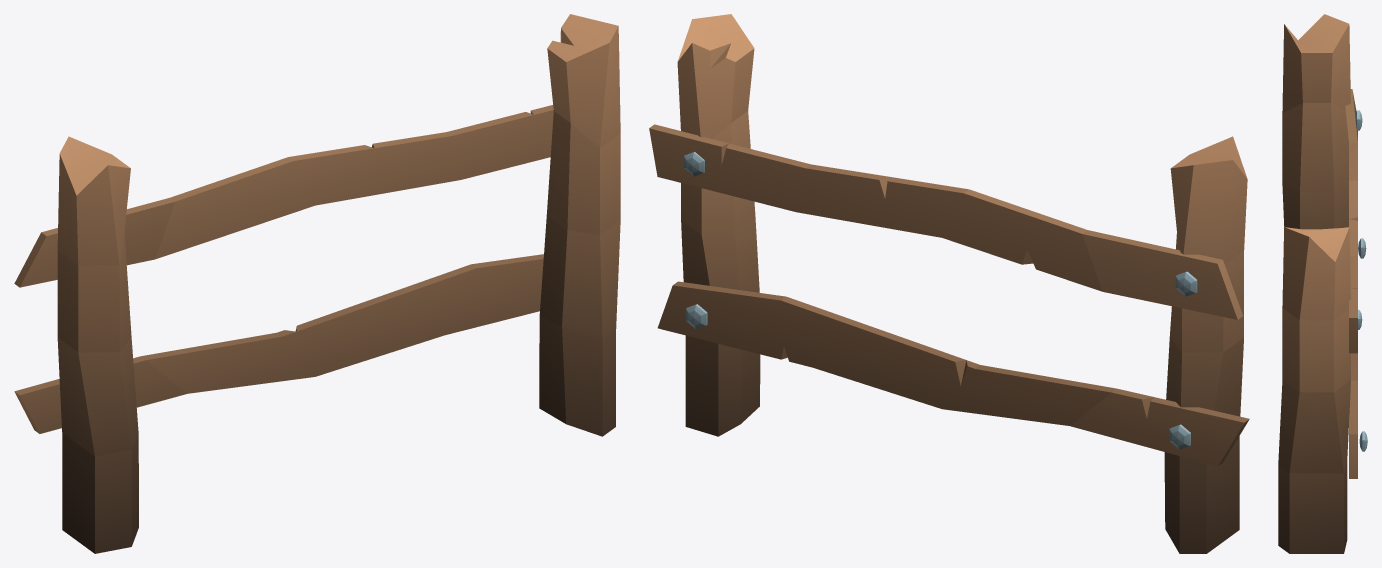
Rendered from CERCA (3).fbx.
3 views of the same model, side by side, from view 1: azimuth 30°, elevation 25°; view 2: azimuth 150°, elevation 25°; view 3: azimuth 270°, elevation 25° (orthographic). The views are drawn at different scales.
Visible parts, largest first — view 1: Sphere.003; view 2: Sphere.003; view 3: Sphere.003.
Part boxes in pixels (x1,y1,x2,y2): Sphere.003: (14,14,620,553); Sphere.003: (649,14,1249,553); Sphere.003: (1278,14,1367,553).
Size of the model in its own units: 737 by 462 by 116.
8 materials, 8 textured.
